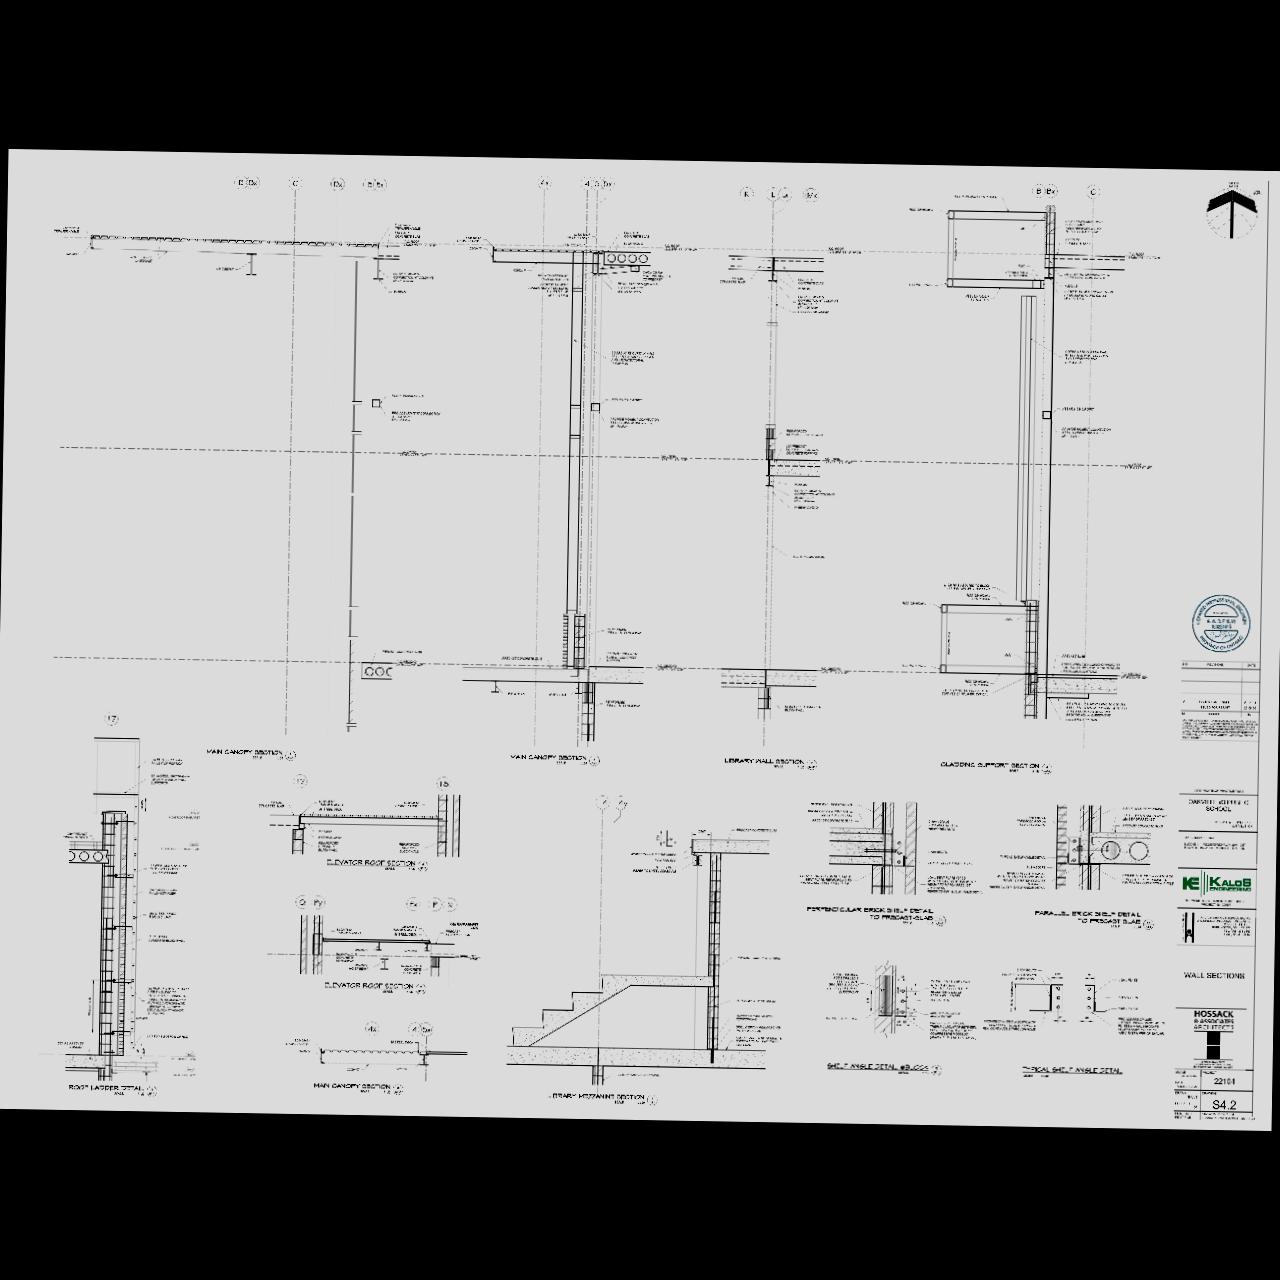title: (803, 903, 949, 928), (1033, 906, 1157, 932), (938, 757, 1055, 777), (325, 855, 431, 874), (825, 1061, 944, 1078), (1020, 1063, 1125, 1082), (722, 754, 818, 774), (544, 1090, 660, 1107), (311, 1078, 406, 1098), (322, 979, 429, 996), (66, 1081, 161, 1099), (508, 750, 602, 769), (204, 745, 299, 763)
